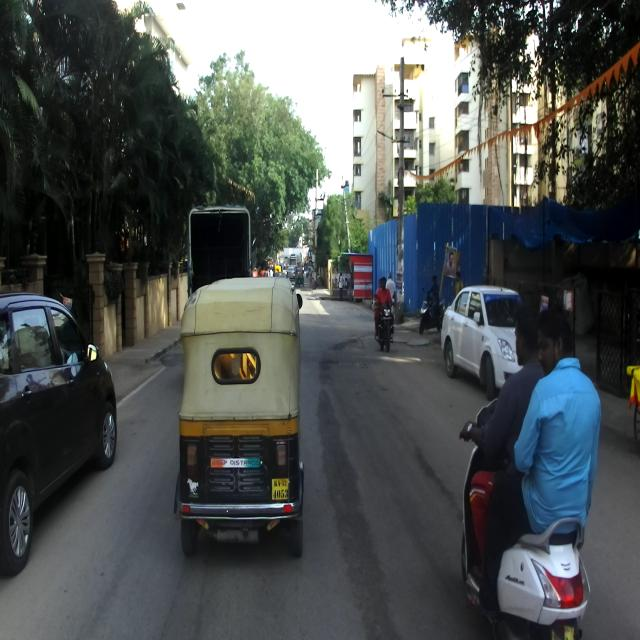auto ahead at: (182, 273, 304, 556)
car ahead at: (0, 285, 116, 570)
motorcycle ahead at: (498, 513, 602, 640)
